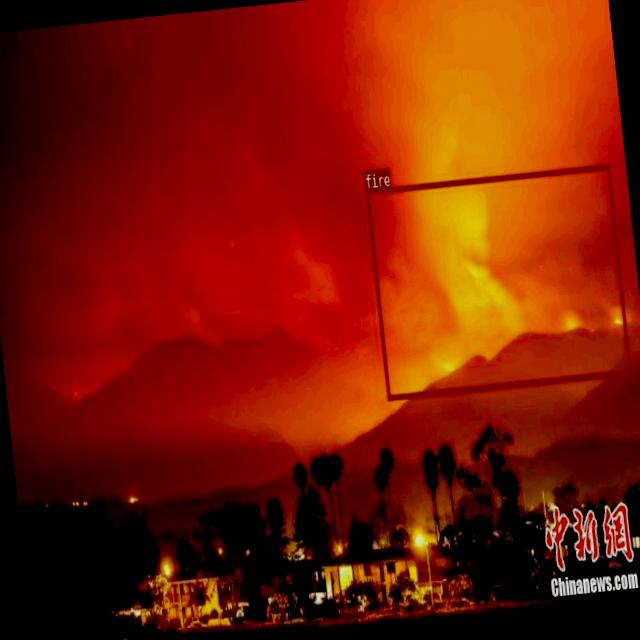fire: (364, 162, 631, 400)
